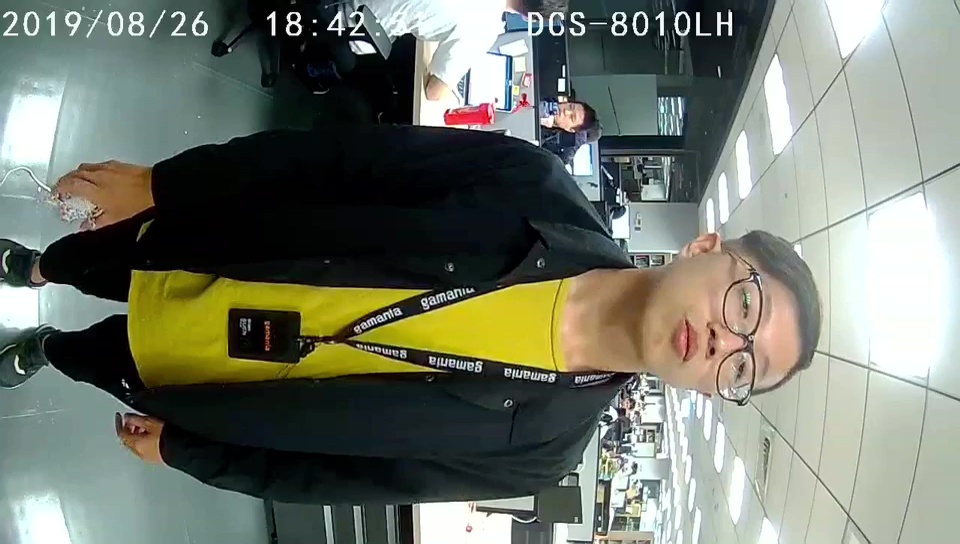pig: (52, 186, 102, 230)
